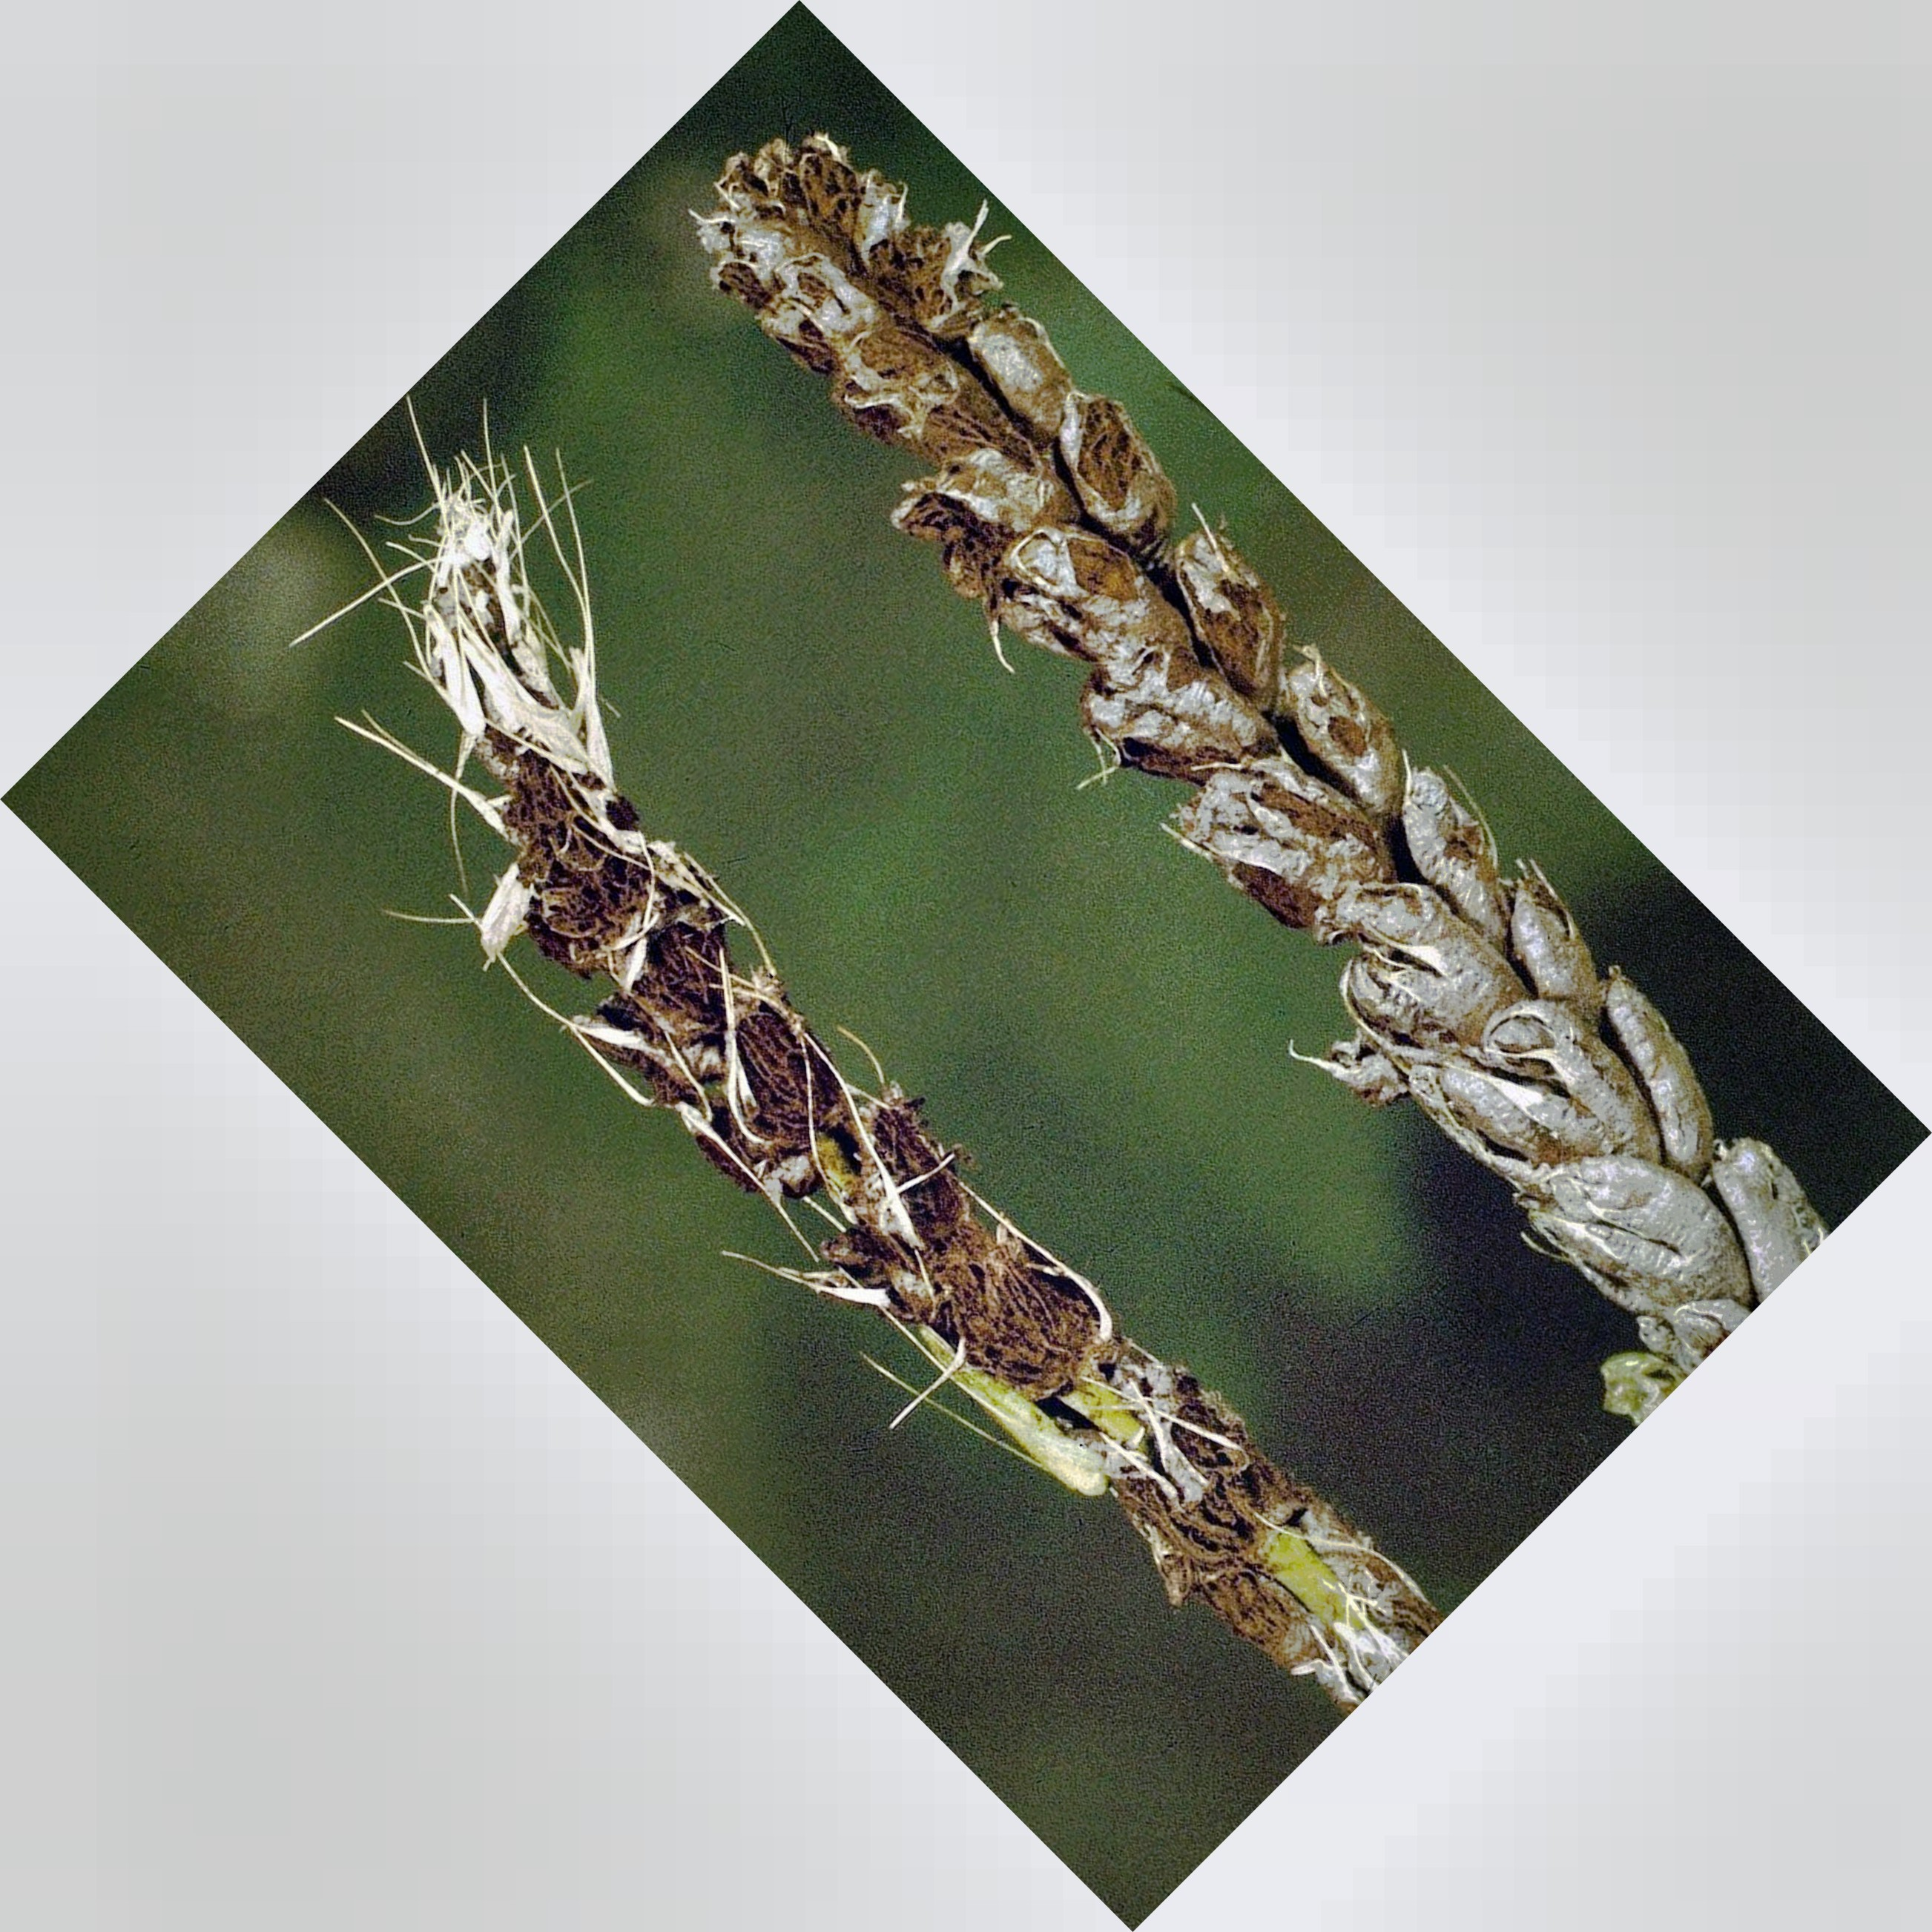Wheat Loose Smut: (410, 662, 1263, 1587)
